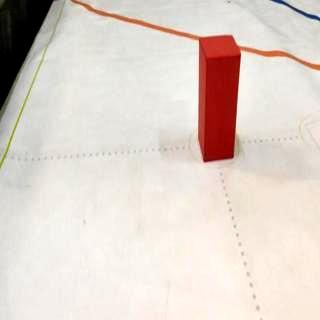redbox: (196, 34, 242, 164)
